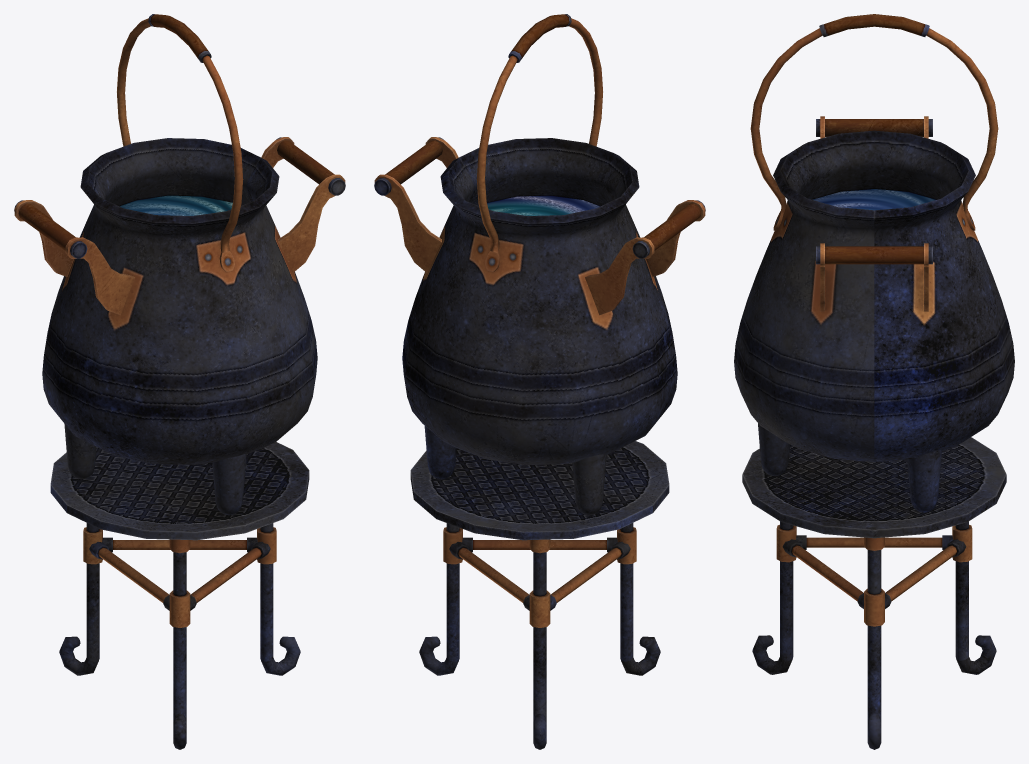
Rendered from DS_WizLab_Clut_SmallCauldron.fbx.
3 views of the same model, side by side, from view 1: azimuth 30°, elevation 25°; view 2: azimuth 150°, elevation 25°; view 3: azimuth 270°, elevation 25° (orthographic).
Visible parts, largest first — view 1: DS_WizLab_Clut_SmallCauldron; view 2: DS_WizLab_Clut_SmallCauldron; view 3: DS_WizLab_Clut_SmallCauldron.
Part boxes in pixels (<box>): DS_WizLab_Clut_SmallCauldron: <box>14,14,345,749</box>; DS_WizLab_Clut_SmallCauldron: <box>374,14,705,749</box>; DS_WizLab_Clut_SmallCauldron: <box>734,14,1014,749</box>.
Bounding box in the file's own units: 35.96 × 83.96 × 31.19.
1 material, 1 textured.
